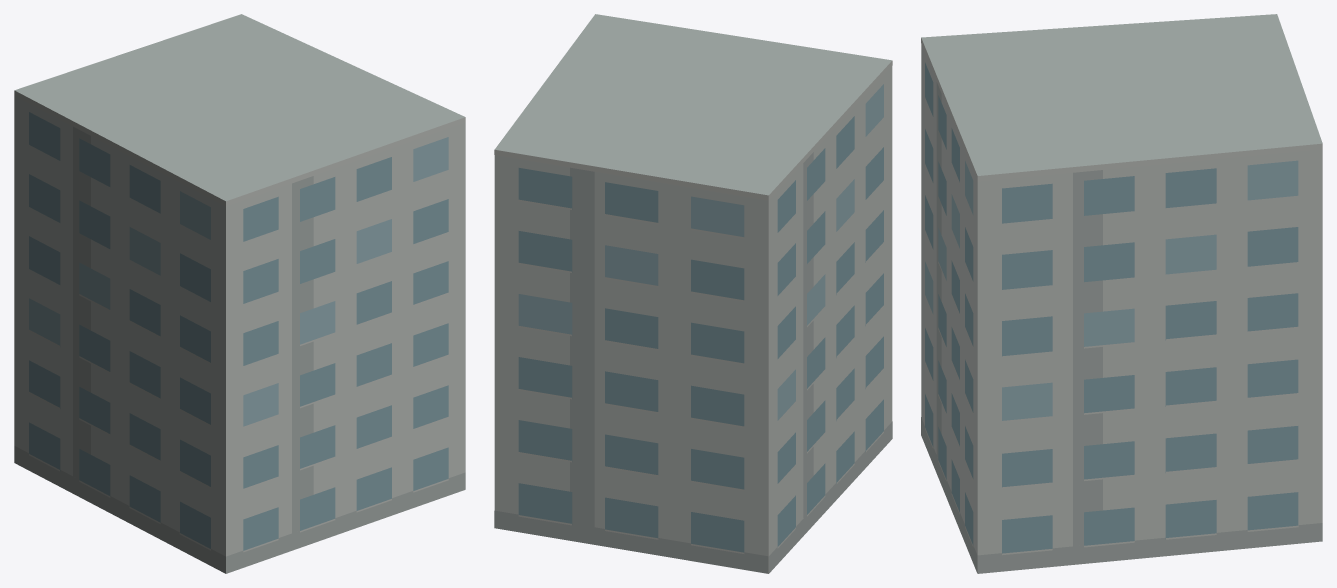
The model's file is survey-upis-32746722.glb.
3 renders of one model, left to right at view 1: azimuth 30°, elevation 25°; view 2: azimuth 150°, elevation 25°; view 3: azimuth 270°, elevation 25°, orthographic. The views are drawn at different scales.
Visible parts, largest first — view 1: survey-upis-32746722.tmp; view 2: survey-upis-32746722.tmp; view 3: survey-upis-32746722.tmp.
Part boxes in pixels (x1=…): survey-upis-32746722.tmp: x1=14, y1=14, x2=465, y2=573; survey-upis-32746722.tmp: x1=494, y1=14, x2=892, y2=573; survey-upis-32746722.tmp: x1=921, y1=14, x2=1322, y2=573.
Size of the model in its own units: 14.95 by 17.1 by 15.66.
